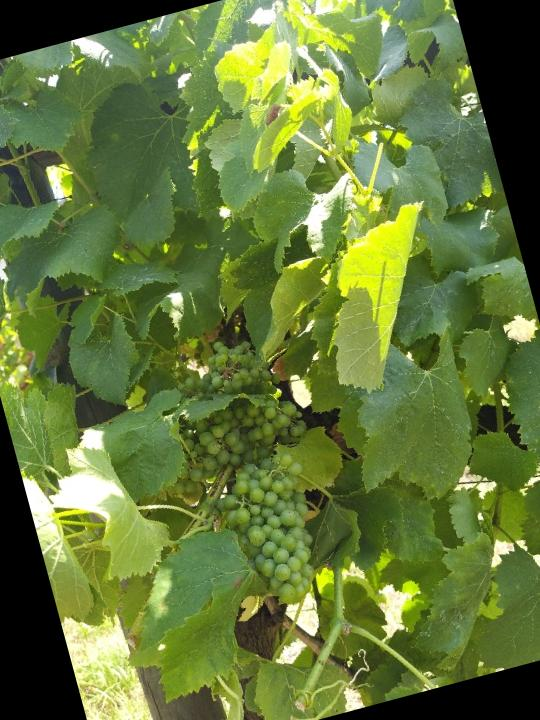grape: (136, 320, 372, 636)
